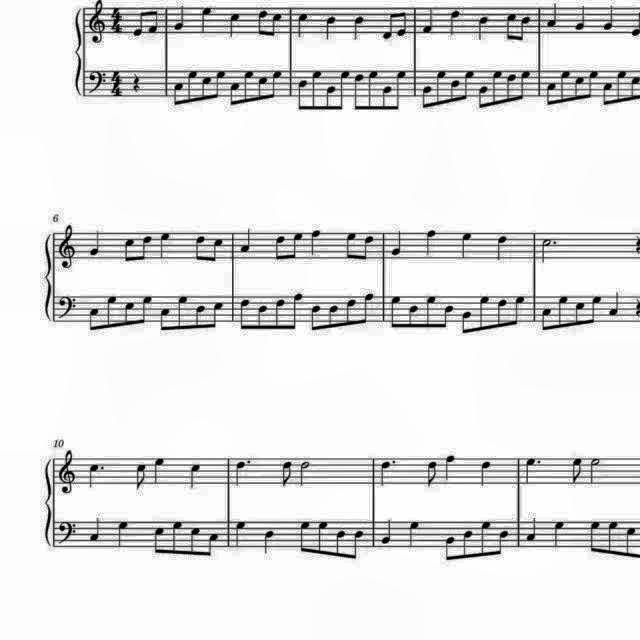Bass-clef: (57, 293, 81, 323), (58, 518, 82, 546), (85, 66, 106, 96)
Eighth-note: (309, 67, 325, 113), (364, 68, 380, 112), (294, 517, 312, 555), (623, 522, 640, 561), (85, 300, 103, 336), (586, 518, 604, 554), (339, 68, 353, 114), (477, 292, 493, 332), (478, 518, 494, 558), (174, 292, 190, 332), (434, 67, 450, 106), (132, 458, 150, 492), (314, 517, 330, 555), (604, 517, 620, 555), (351, 71, 365, 113), (237, 296, 253, 332), (104, 294, 120, 330), (272, 296, 288, 332), (388, 294, 404, 330), (567, 454, 585, 486), (342, 230, 360, 262), (170, 518, 186, 554), (556, 293, 572, 329), (392, 68, 408, 104), (290, 292, 304, 331), (460, 526, 476, 560), (460, 67, 476, 101), (494, 296, 510, 330), (138, 293, 154, 327), (380, 8, 396, 42), (360, 292, 376, 326), (502, 10, 518, 44), (184, 68, 200, 102), (586, 66, 602, 100), (424, 456, 441, 488), (294, 77, 310, 111), (424, 292, 438, 330), (132, 5, 148, 38), (212, 68, 228, 100), (334, 526, 350, 558), (270, 68, 286, 100), (254, 6, 270, 38), (512, 293, 528, 325), (210, 297, 226, 329), (350, 528, 366, 560), (392, 8, 408, 40), (308, 302, 324, 334), (150, 523, 166, 555), (186, 524, 202, 556), (518, 68, 534, 100), (290, 228, 306, 260), (240, 68, 254, 104), (559, 68, 573, 104), (616, 68, 630, 104), (278, 457, 294, 488), (491, 69, 504, 107), (538, 303, 554, 333), (272, 230, 288, 260), (193, 230, 209, 260), (270, 8, 286, 38), (122, 235, 138, 265), (138, 233, 154, 263), (360, 232, 376, 262), (448, 76, 464, 106), (442, 531, 458, 561), (170, 80, 186, 108), (122, 300, 138, 328), (345, 296, 359, 328), (210, 234, 226, 262), (194, 304, 210, 332), (519, 12, 533, 44), (158, 306, 174, 334), (496, 528, 512, 556), (458, 308, 474, 336), (206, 530, 222, 558), (542, 80, 558, 108), (420, 84, 436, 112), (146, 7, 160, 37), (590, 295, 604, 325), (381, 85, 395, 114), (572, 299, 586, 327), (442, 303, 456, 331), (255, 302, 269, 330), (408, 302, 422, 330), (323, 86, 337, 114), (601, 82, 615, 110), (504, 70, 516, 102), (326, 302, 339, 330), (200, 72, 213, 100), (256, 71, 268, 101), (572, 75, 584, 103), (230, 82, 242, 110), (478, 84, 490, 112), (639, 522, 640, 561)
Half-dot: (537, 235, 559, 265)
Half-note: (298, 459, 314, 489), (588, 454, 604, 484)
Quarter-dot: (522, 451, 542, 489), (380, 453, 400, 491), (85, 460, 107, 492), (230, 458, 252, 490)
Quarter-note: (198, 2, 216, 34), (388, 228, 406, 260), (551, 518, 569, 550), (151, 454, 169, 486), (457, 228, 475, 260), (232, 517, 250, 549), (184, 459, 203, 489), (419, 4, 436, 36), (87, 228, 105, 258), (421, 228, 439, 258), (350, 13, 368, 43), (493, 232, 511, 262), (477, 457, 495, 487), (600, 0, 616, 32), (526, 514, 542, 546), (262, 526, 278, 558), (439, 455, 456, 485), (172, 1, 188, 32), (572, 2, 588, 32), (476, 13, 492, 43), (448, 6, 464, 36), (88, 514, 104, 544), (408, 519, 424, 549), (114, 518, 130, 548), (308, 229, 324, 259), (158, 230, 174, 260), (238, 228, 255, 256), (225, 10, 242, 38), (322, 13, 338, 42), (545, 0, 561, 28), (294, 10, 310, 38), (606, 290, 622, 318), (379, 518, 395, 546)
Quarter-rest: (130, 71, 146, 95)
Treble-clef: (56, 224, 80, 274), (57, 450, 81, 498), (87, 0, 110, 44)
